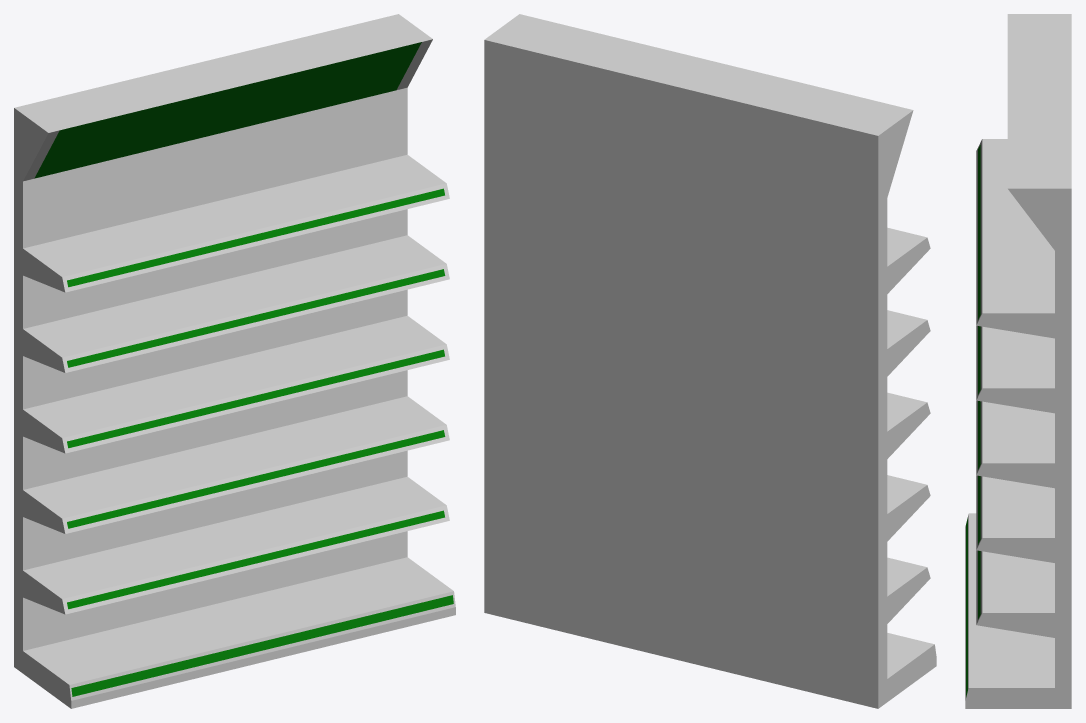
Rendered from shelf_1.fbx.
The picture shows the model from 3 angles, left to right: view 1: azimuth 30°, elevation 25°; view 2: azimuth 150°, elevation 25°; view 3: azimuth 270°, elevation 25°; orthographic projection. The views are drawn at different scales.
Visible parts, largest first — view 1: shelf1; view 2: shelf1; view 3: shelf1.
Boxes of the visible parts, left/top/right/bottom form: shelf1: left=14, top=14, right=455, bottom=708; shelf1: left=484, top=14, right=936, bottom=708; shelf1: left=965, top=14, right=1071, bottom=708.
Size of the model in its own units: 500 by 695 by 129.
